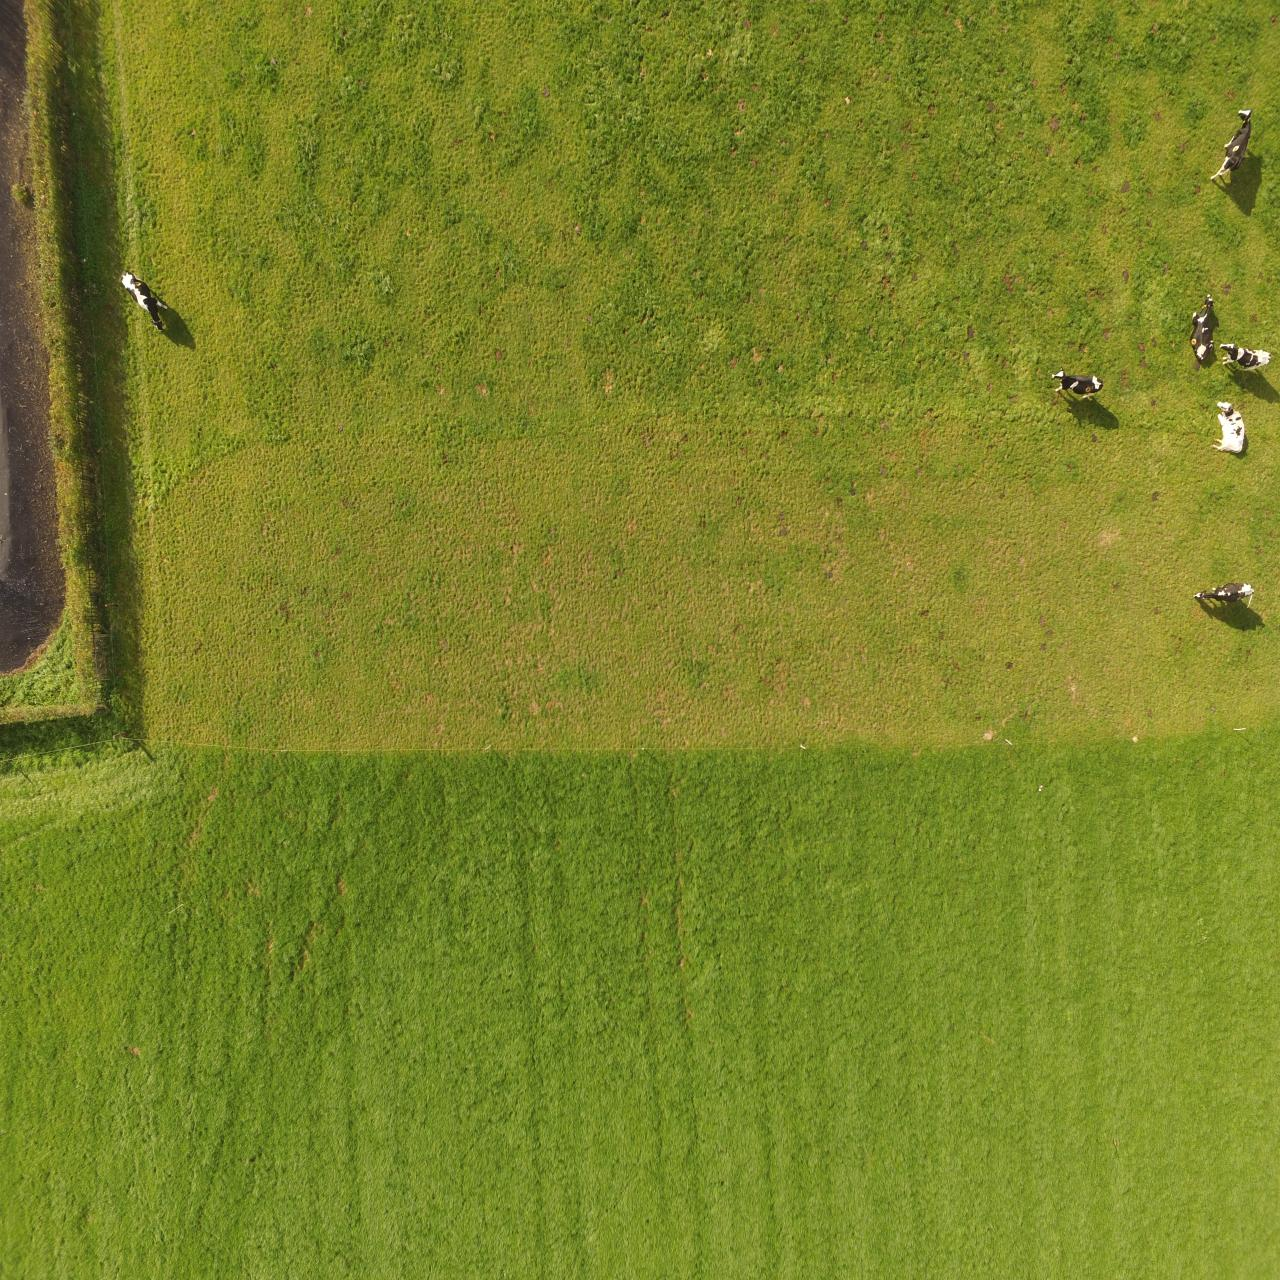cow: (118, 267, 169, 334), (1210, 108, 1252, 182), (1050, 367, 1105, 403), (1210, 399, 1246, 452), (1190, 292, 1216, 365), (1219, 338, 1273, 372), (1193, 581, 1254, 611)
